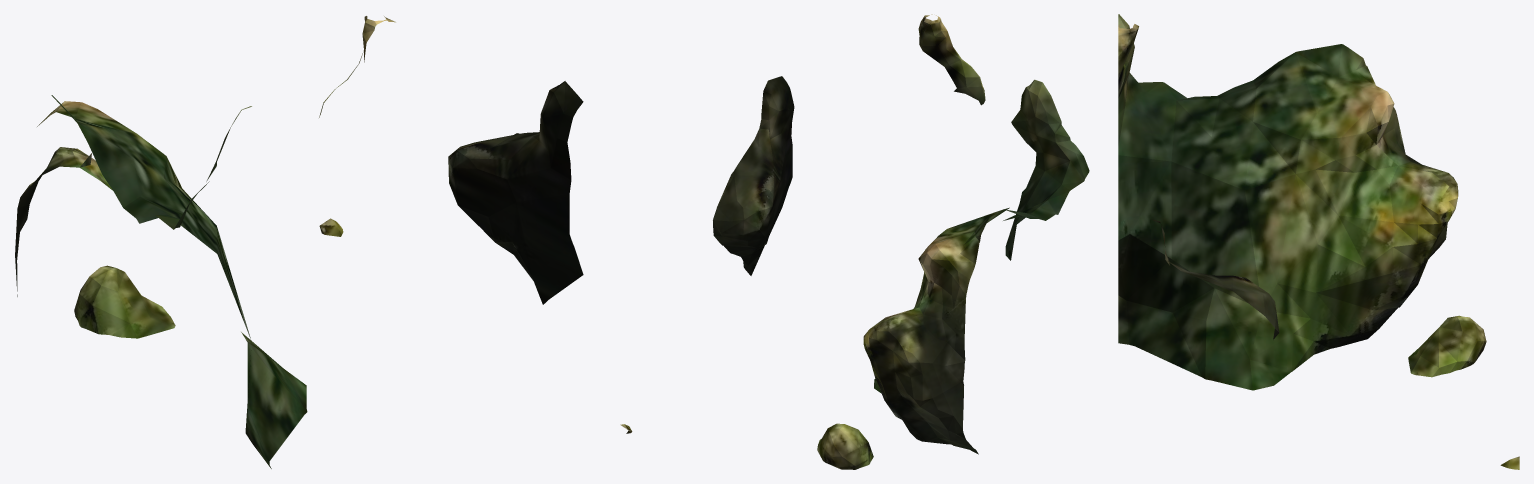
The picture shows the model from 3 angles, left to right: view 1: azimuth 30°, elevation 25°; view 2: azimuth 150°, elevation 25°; view 3: azimuth 270°, elevation 25°; orthographic projection. The views are drawn at different scales.
Size of the model in its own units: 0.8373 by 0.8374 by 0.8374.
Materials: 3 (3 with a texture image).
